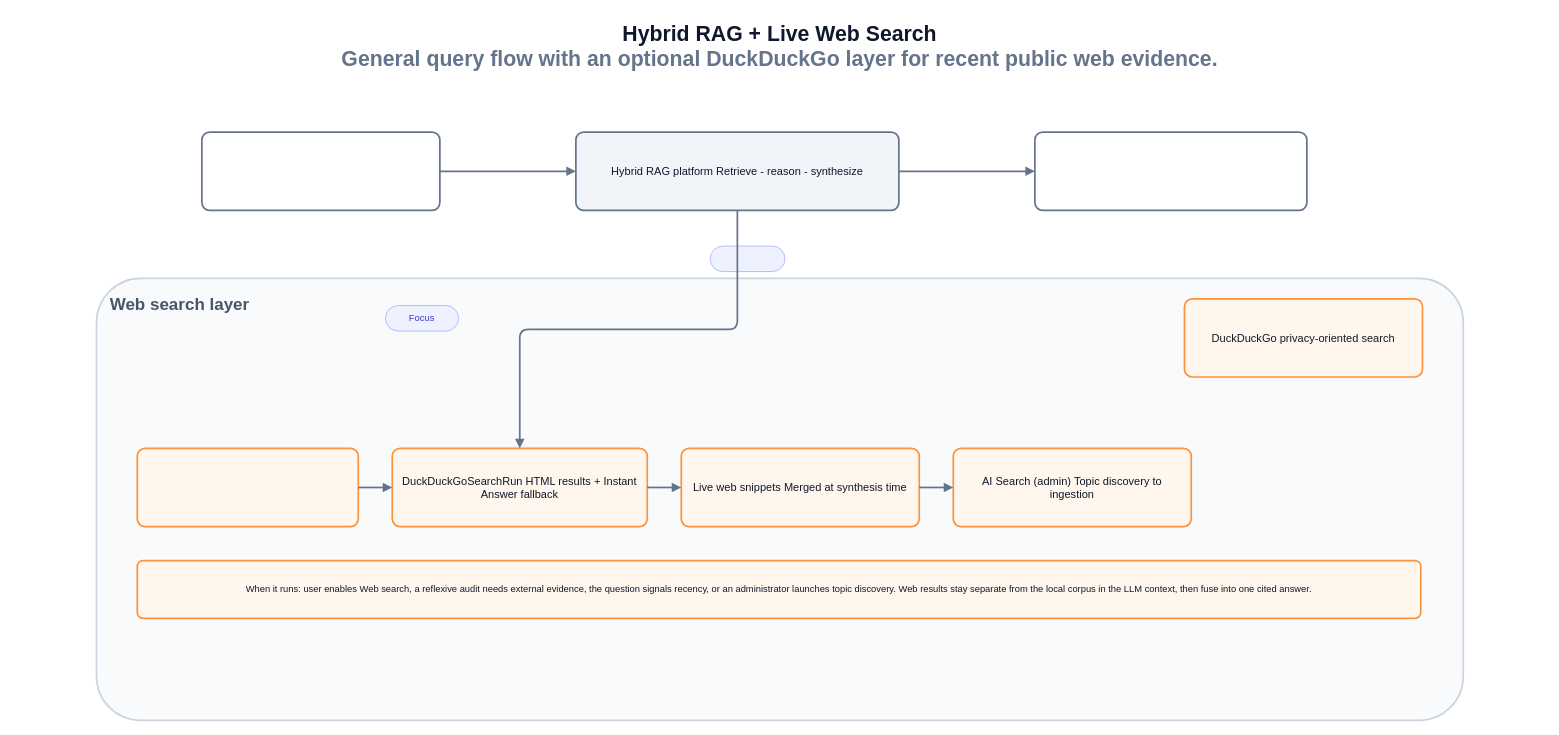
Image size: 1559x735. Some labels were removed from this diagram. The shapes that lost their labels are listed below. From the top down, each one's centre as x and y in pixels, then its label:
At pixel 320 171: "User question Chat interface".
At pixel 1170 171: "Cited answer Sources + trace".
At pixel 747 258: "optional".
At pixel 247 487: "Web On / Off Chat toggle".
